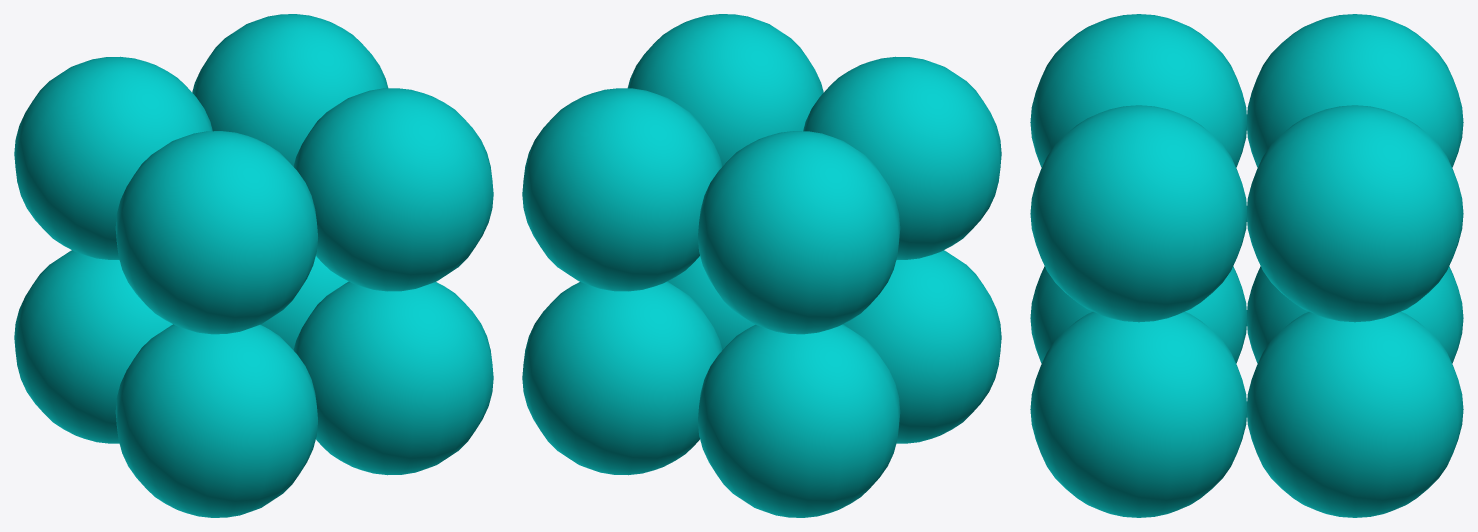
The model's file is scgordo_centrado.glb.
The picture shows the model from 3 angles, left to right: view 1: azimuth 30°, elevation 25°; view 2: azimuth 150°, elevation 25°; view 3: azimuth 270°, elevation 25°; orthographic projection. The views are drawn at different scales.
Parts seen in each view (by area): view 1: atomo9; view 2: atomo9; view 3: atomo9.
Boxes of the visible parts, box(x1,y1,x2,y2) form: atomo9: box(14, 14, 493, 517); atomo9: box(522, 14, 1001, 517); atomo9: box(1030, 14, 1463, 517).
Bounding box in the file's own units: 2.01 × 2.01 × 2.01.
